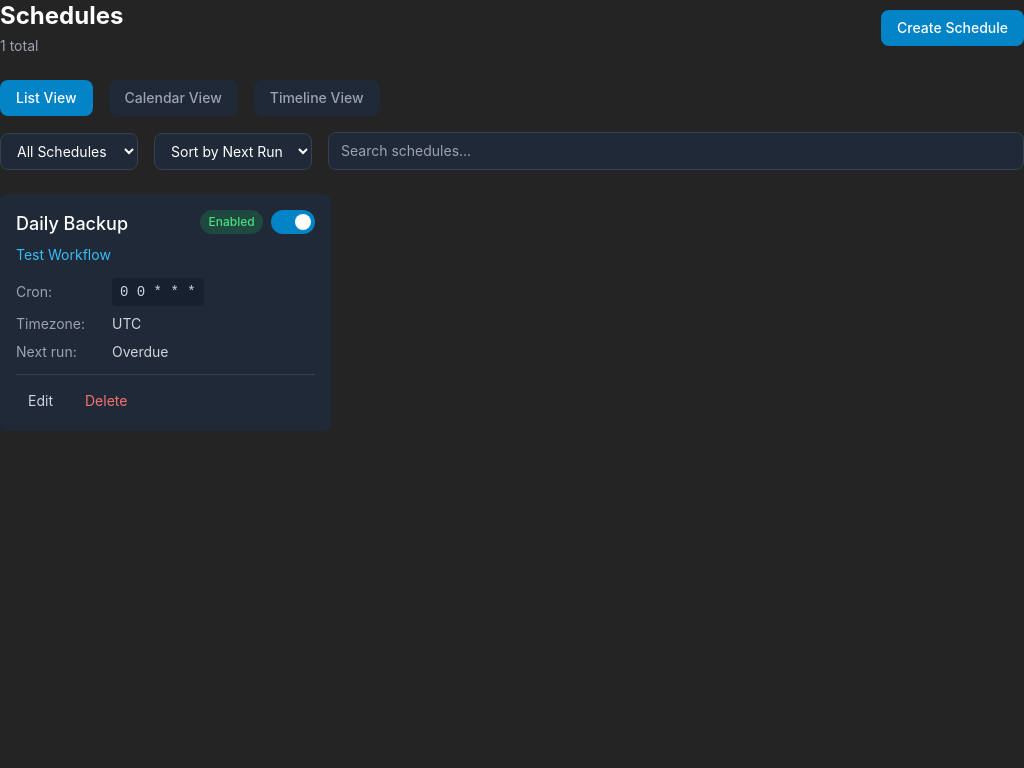
Test: Schedules Page › Delete confirmation › should show delete error in modal
Click the button "Delete".
click(106, 401)  # box top-left (73, 387), bottom-right (139, 415)
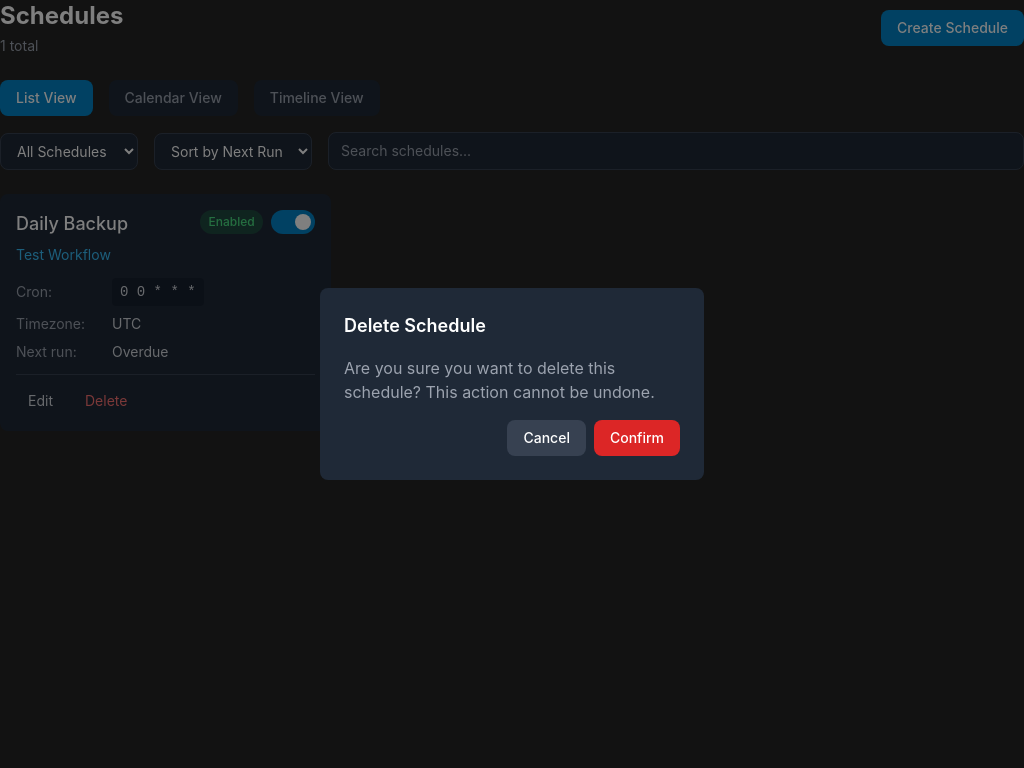
Click the button "Confirm".
click(637, 438)  # box top-left (594, 420), bottom-right (680, 456)
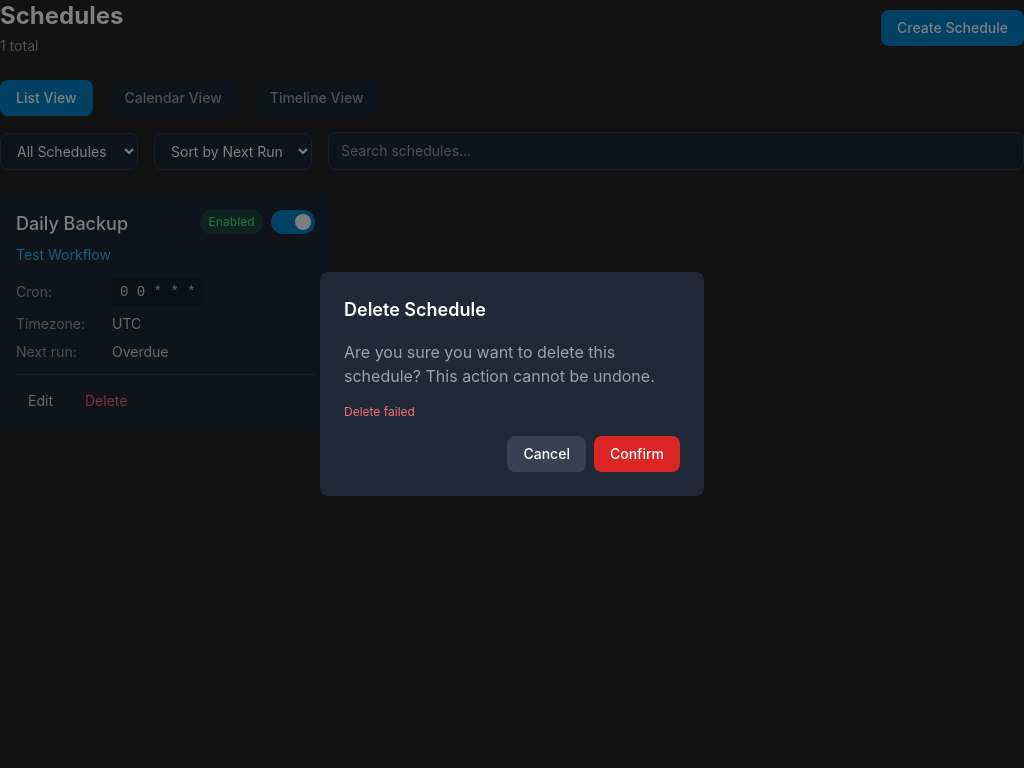
Expected: the text "Delete failed" is shown, top-left (344, 404), bottom-right (415, 419)
